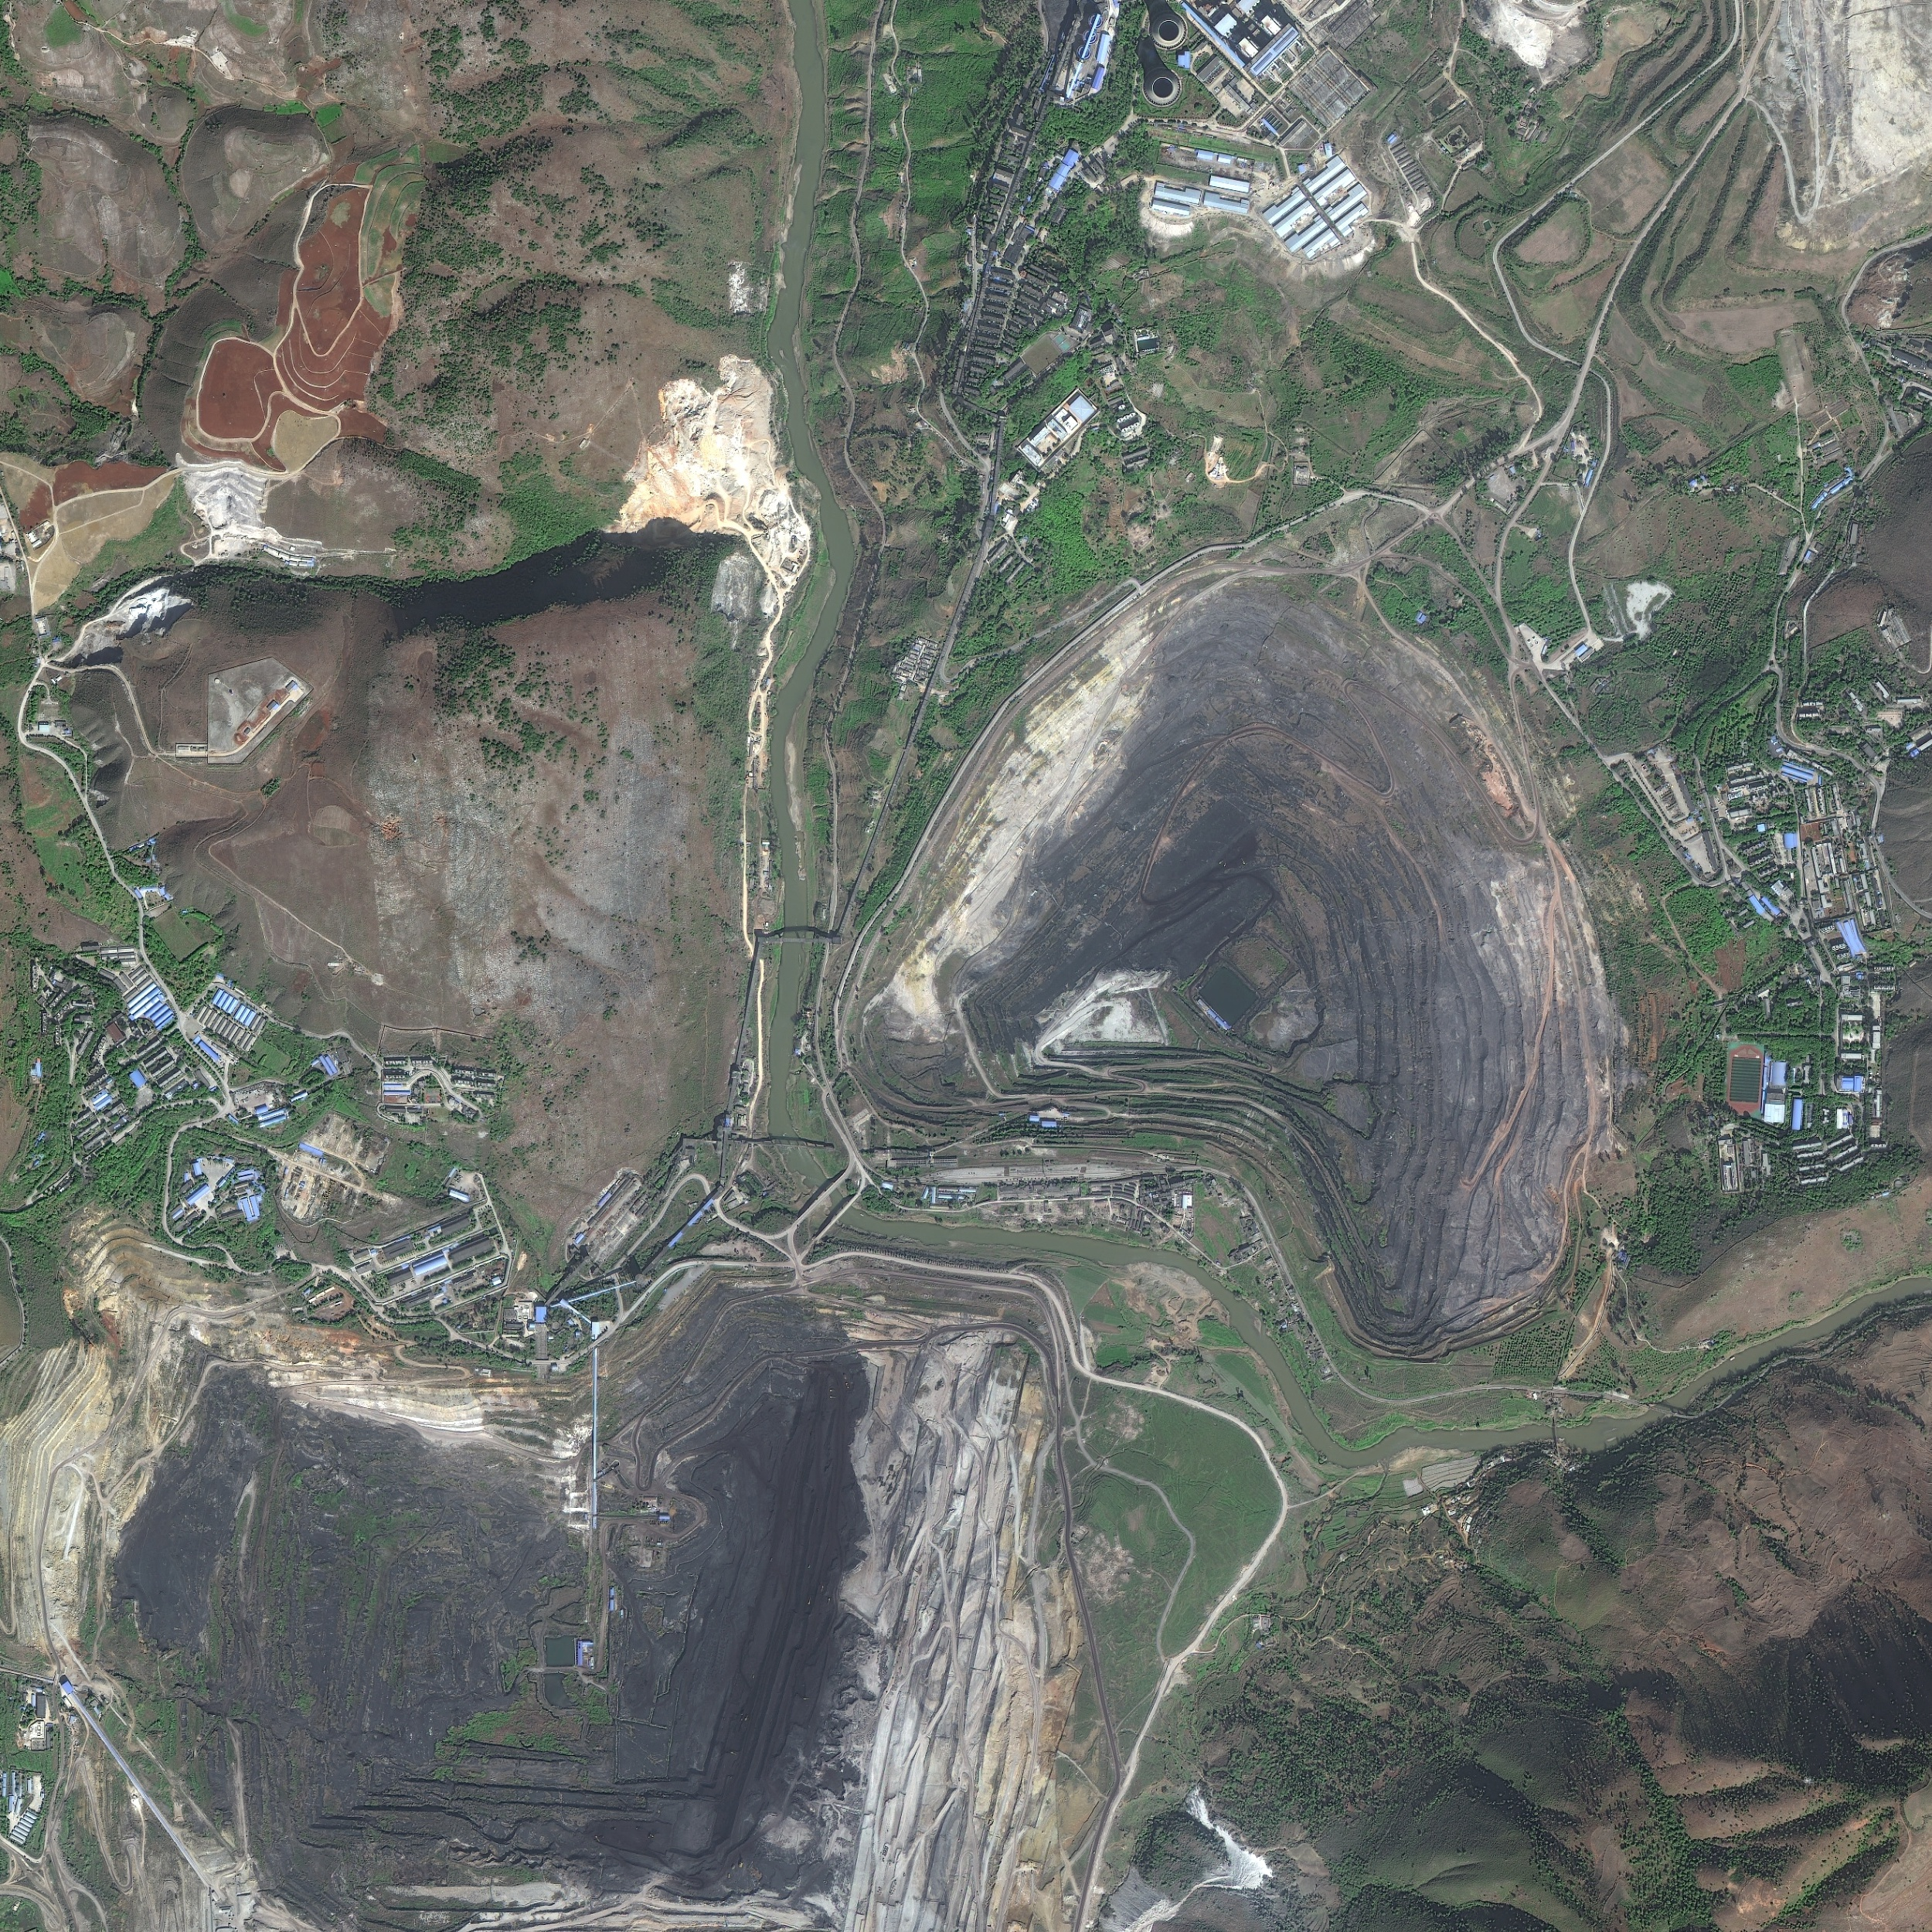cement_plant: (124, 1191, 435, 1449)
heat_engine_plant: (1134, 0, 1380, 142)
